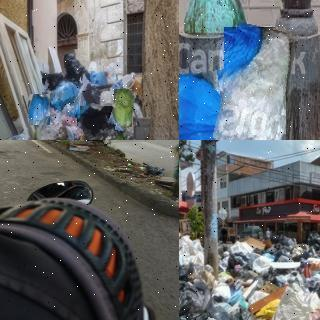Garbage: (217, 24, 292, 140), (179, 70, 253, 140), (74, 103, 125, 140), (266, 284, 316, 320), (40, 76, 82, 116), (61, 48, 90, 93), (179, 283, 210, 316), (111, 88, 135, 128), (28, 94, 50, 125), (144, 163, 167, 177)
